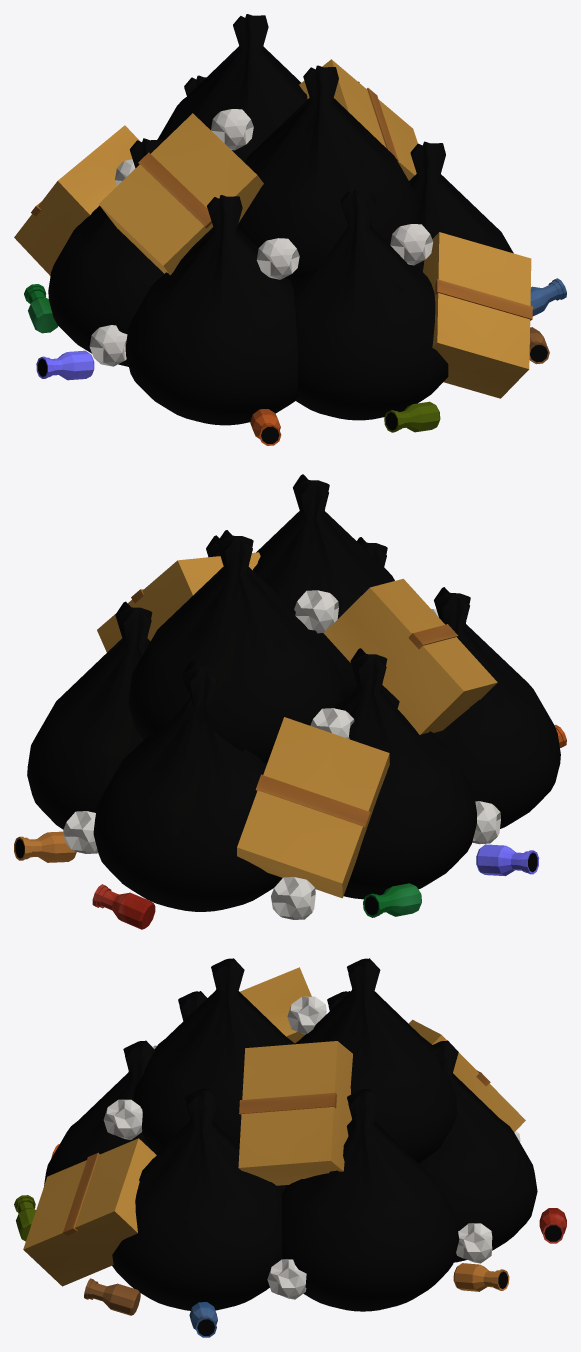
The model's file is çöp yığını.fbx.
3 renders of one model, top to bottom at view 1: azimuth 30°, elevation 25°; view 2: azimuth 150°, elevation 25°; view 3: azimuth 270°, elevation 25°, orthographic. The views are drawn at different scales.
Visible parts, largest first — view 1: Sphere; view 2: Sphere; view 3: Sphere.
Boxes of the visible parts, <box> form: Sphere: <box>14,14,566,445</box>; Sphere: <box>14,474,566,929</box>; Sphere: <box>14,958,566,1337</box>.
Size of the model in its own units: 347 by 214 by 363.
1 material, 1 textured.
